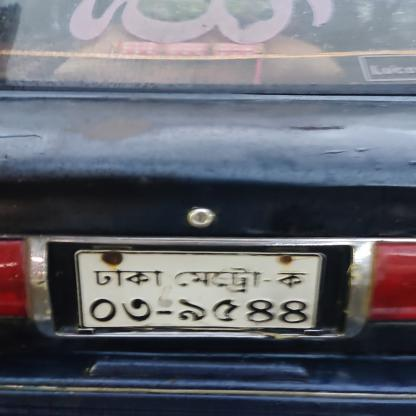license_plate: (72, 243, 338, 339)
